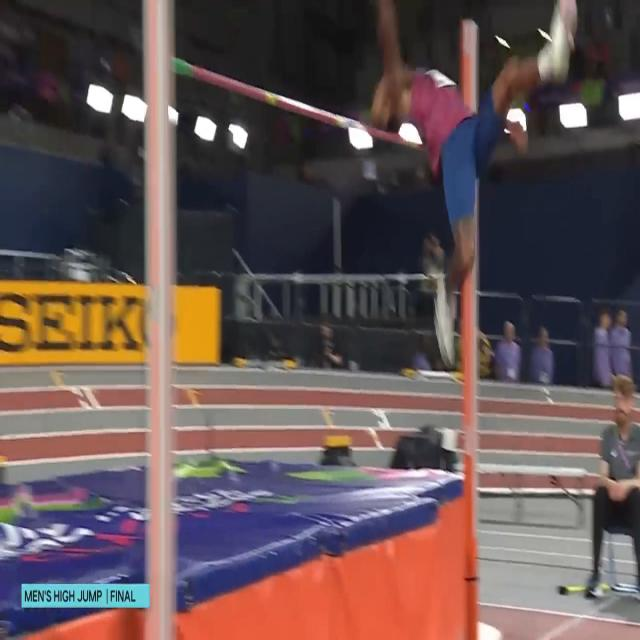jump: (366, 0, 578, 367)
